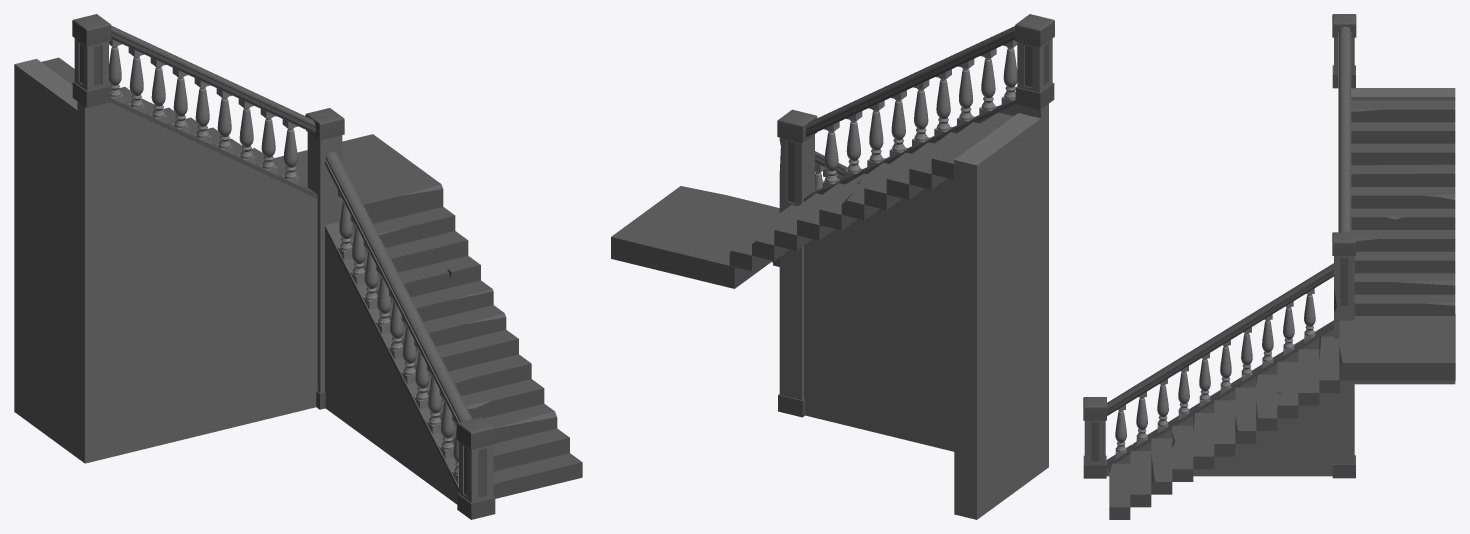
File: CastleStairs_03.glb
3 renders of one model, left to right at view 1: azimuth 30°, elevation 25°; view 2: azimuth 150°, elevation 25°; view 3: azimuth 270°, elevation 25°, orthographic. The views are drawn at different scales.
Parts seen in each view (by area): view 1: CastleStairs_03_LOD0; view 2: CastleStairs_03_LOD0; view 3: CastleStairs_03_LOD0.
Boxes of the visible parts, bbox=[...] form: CastleStairs_03_LOD0: bbox=[14, 14, 582, 519]; CastleStairs_03_LOD0: bbox=[611, 14, 1054, 519]; CastleStairs_03_LOD0: bbox=[1083, 14, 1455, 519].
Size of what is drawn, in the model's own units: 5.27 by 6.1 by 5.7.
Materials: 1 (1 with a texture image).
